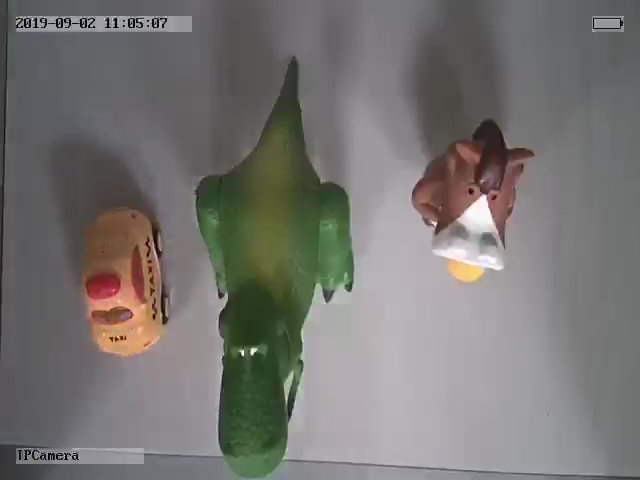car: (82, 204, 171, 356)
horse: (409, 121, 534, 282)
rex: (195, 90, 358, 480)
